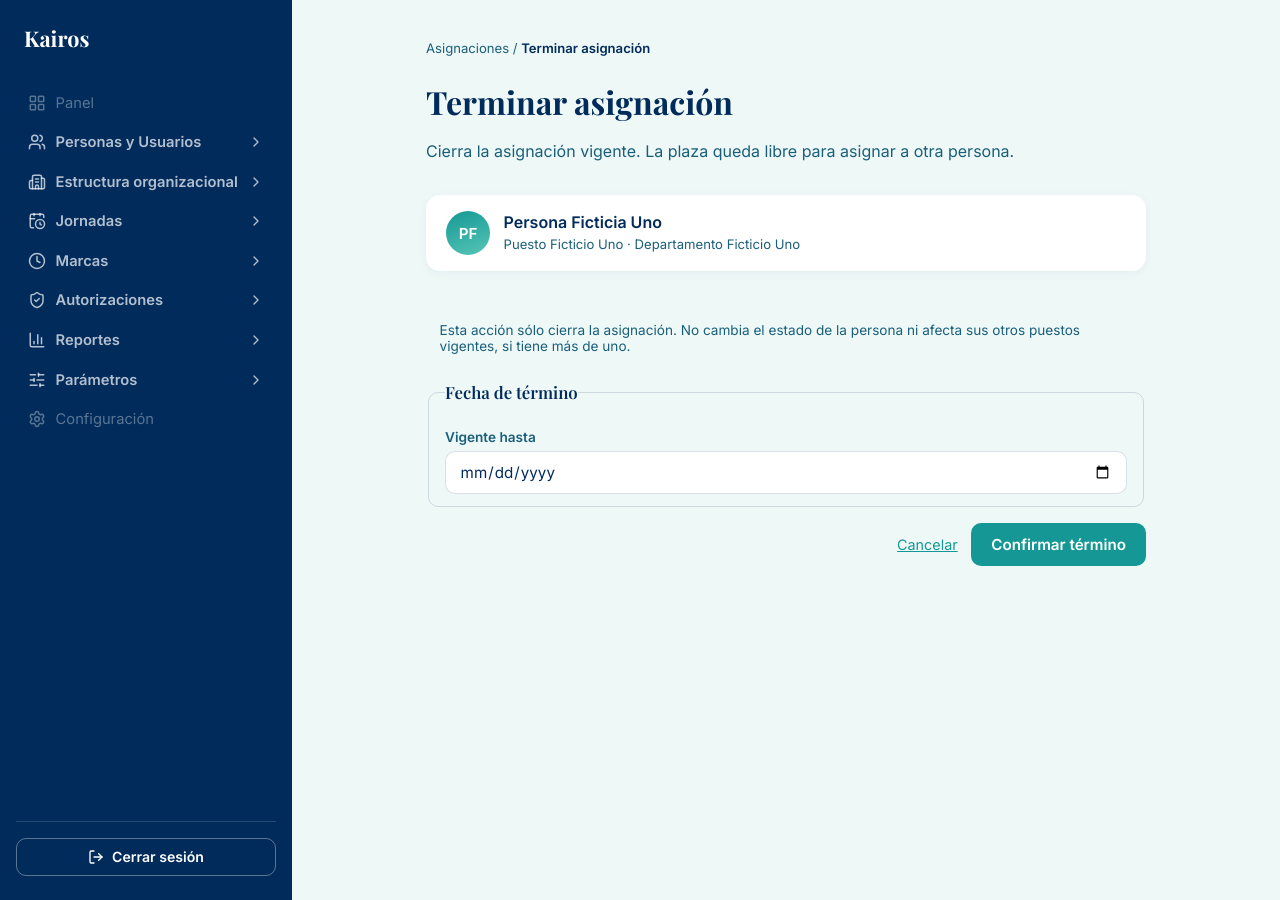
TerminarAsignacionPage › muestra el detail real del backend cuando la asignación ya está cerrada (422)
Expected: the text "Persona Ficticia Uno" is shown, [504, 212, 662, 232]
Type "2026-07-01" into the date field labelled "Vigente hasta" at (786, 472), box [445, 451, 1127, 494]
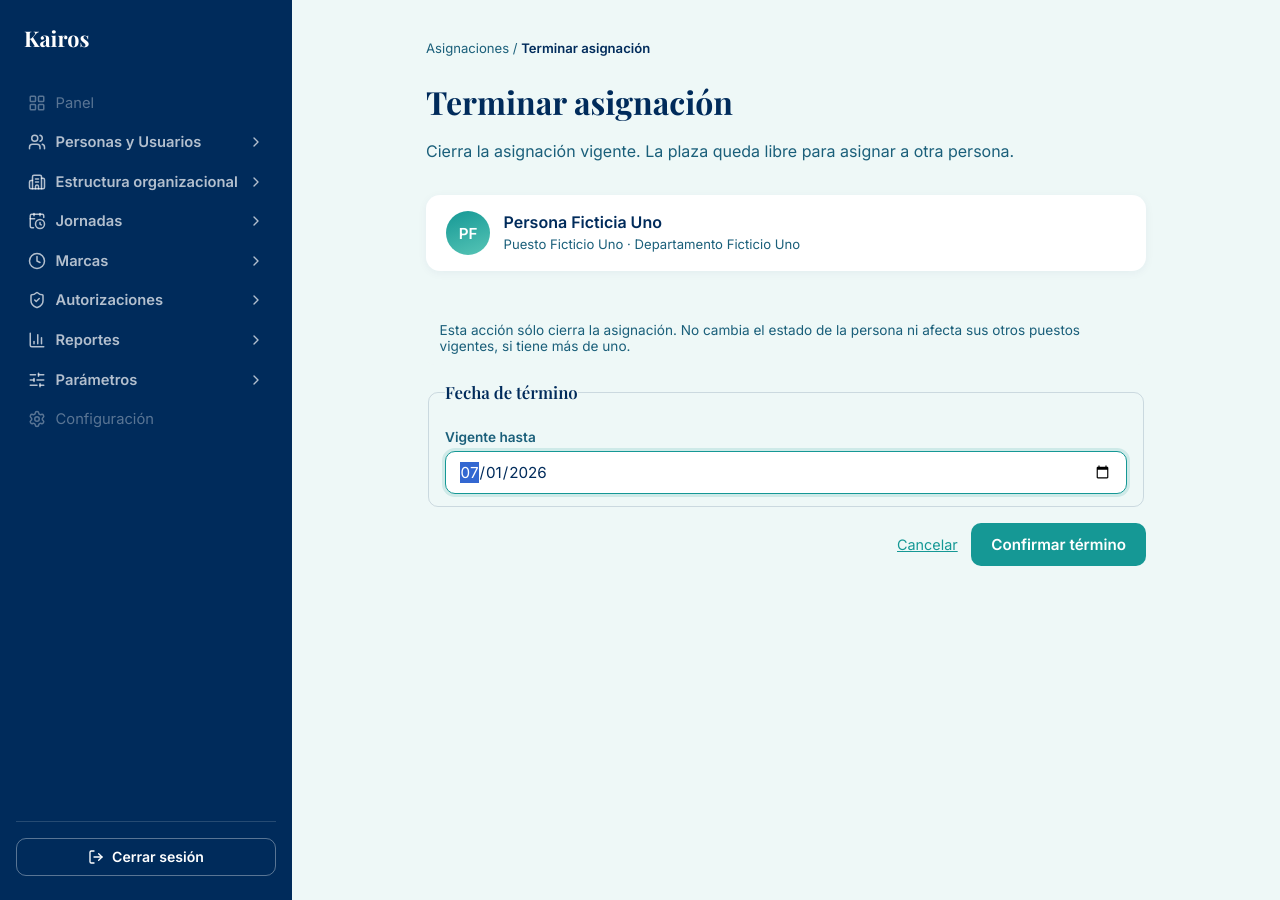
Click the button "Confirmar término" at (1059, 545), box [971, 523, 1146, 566]
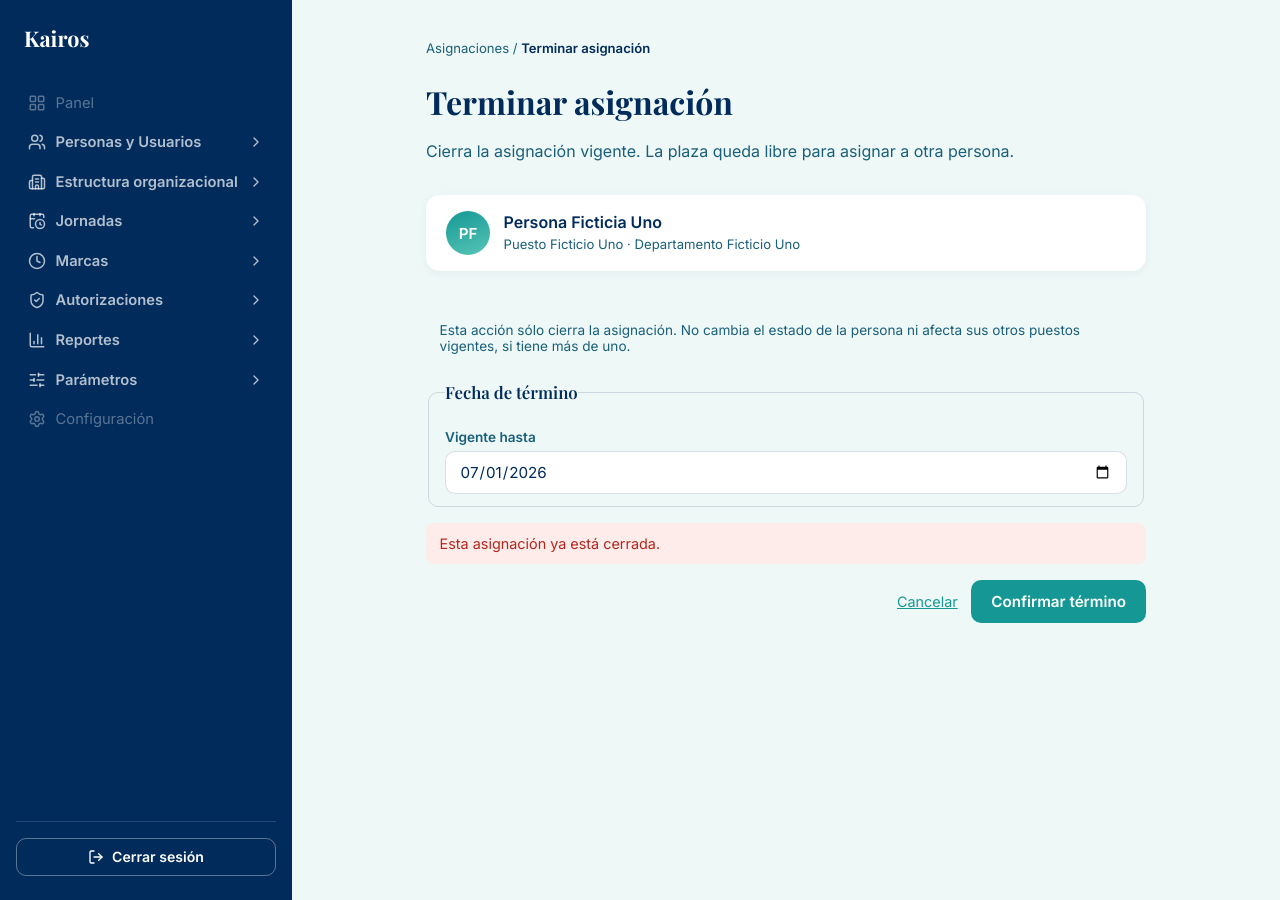
Result: the text "Esta asignación ya está cerrada." is shown at [426, 523, 1146, 564]
